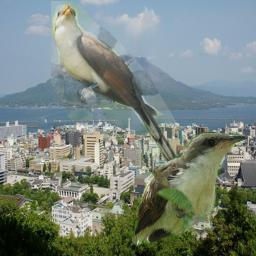Cuckoo: (51, 1, 187, 176), (131, 131, 247, 248)
